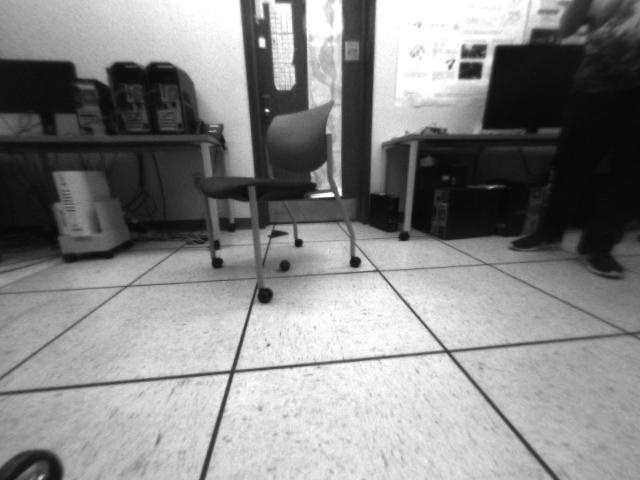dogtoy: (274, 252, 301, 275)
